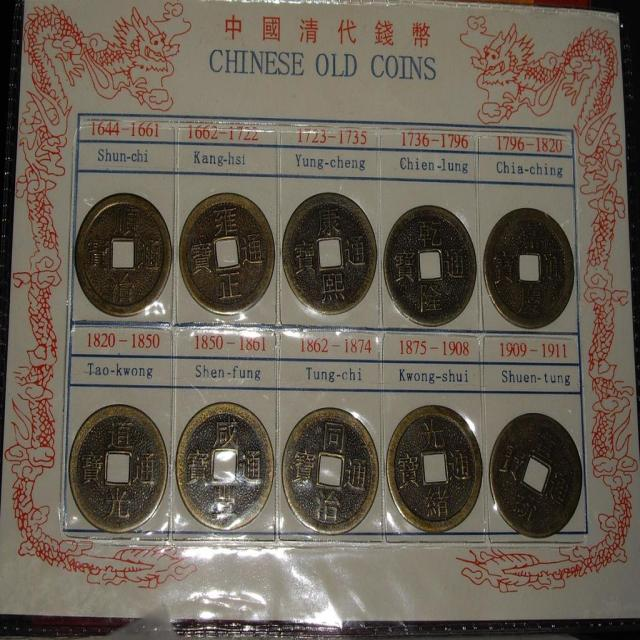Coin: (174, 400, 274, 536), (72, 187, 174, 320), (385, 403, 485, 537), (70, 404, 170, 534), (280, 405, 378, 534), (490, 411, 584, 540), (381, 202, 478, 326), (280, 192, 378, 314), (180, 190, 277, 313), (482, 204, 576, 328)
